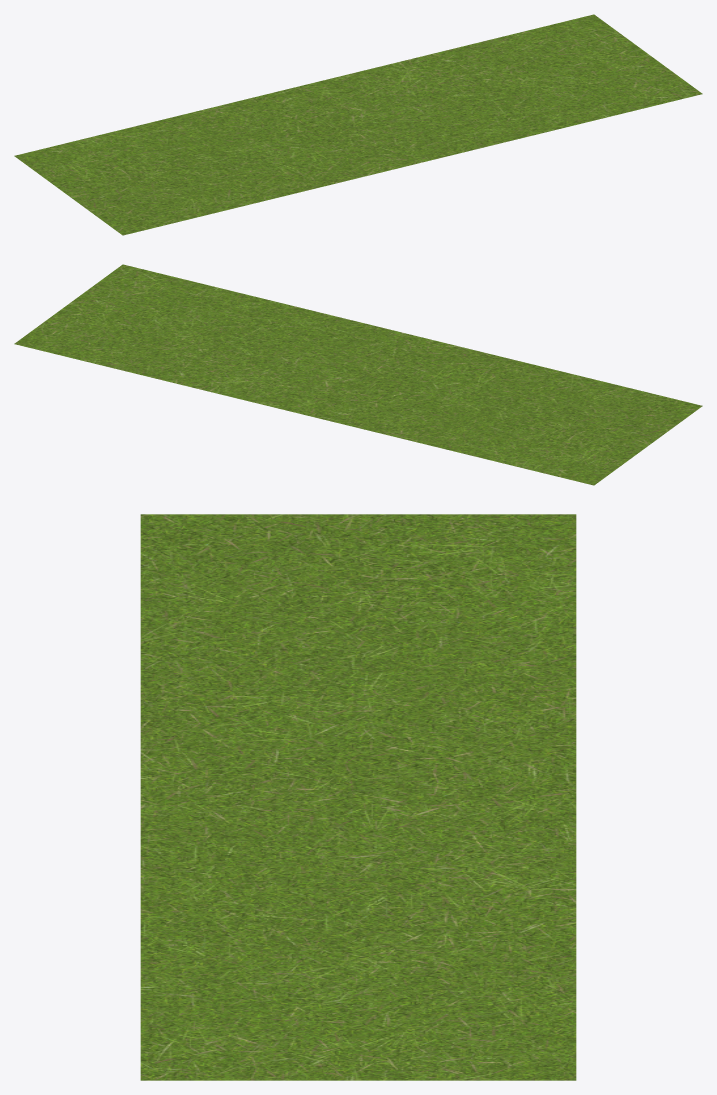
File: Lawn_Strip.fbx
3 renders of one model, top to bottom at view 1: azimuth 30°, elevation 25°; view 2: azimuth 150°, elevation 25°; view 3: azimuth 270°, elevation 25°, orthographic. The views are drawn at different scales.
Parts seen in each view (by area): view 1: Lawn_Strip; view 2: Lawn_Strip; view 3: Lawn_Strip.
Boxes of the visible parts, left/top/right/bottom form: Lawn_Strip: left=14, top=14, right=702, bottom=235; Lawn_Strip: left=14, top=264, right=702, bottom=485; Lawn_Strip: left=140, top=514, right=576, bottom=1080.
Bounding box in the file's own units: 2 × 1.06e-07 × 0.65.
1 material, 1 textured.
